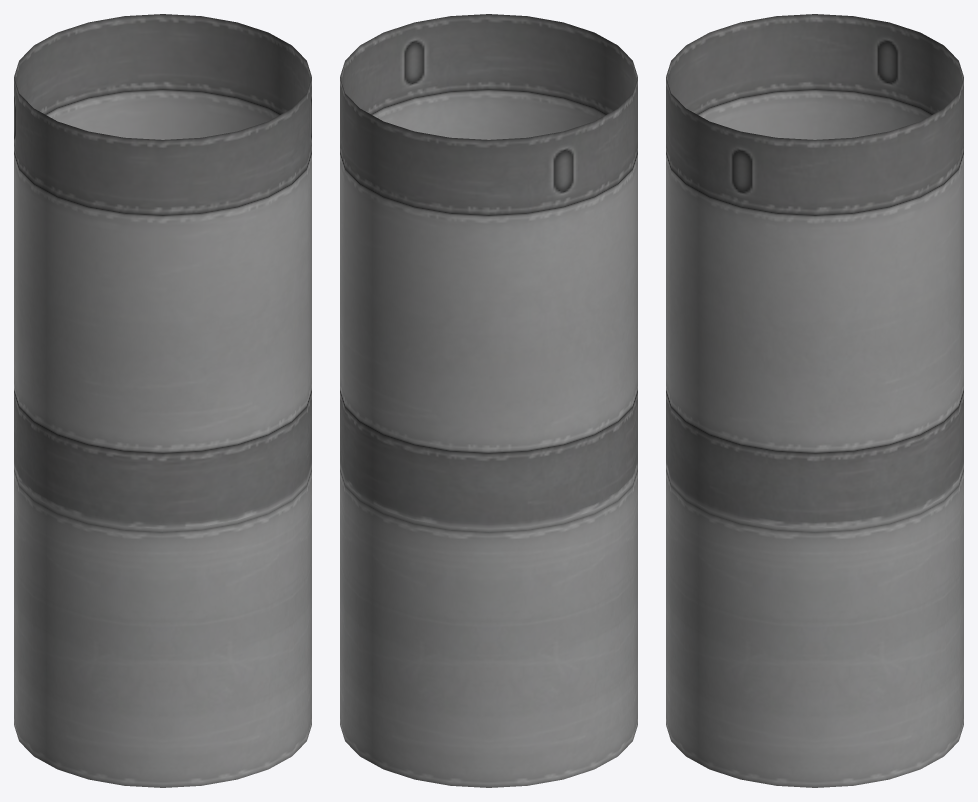
Rendered from blue_lagoon_srm_s0_2.obj.
3 views of the same model, side by side, from view 1: azimuth 30°, elevation 25°; view 2: azimuth 150°, elevation 25°; view 3: azimuth 270°, elevation 25° (orthographic).
Visible parts, largest first — view 1: mesh1, fairing1; view 2: mesh1, fairing1; view 3: mesh1, fairing1.
Boxes of the visible parts, x1,y1,x2,y2 form: mesh1: (14,14,311,528); fairing1: (14,466,311,787); mesh1: (340,14,637,528); fairing1: (340,466,637,787); mesh1: (666,14,963,528); fairing1: (666,466,963,787).
Size of the model in its own units: 0.625 by 1.5 by 0.625.
Materials: 2 (2 with a texture image).
